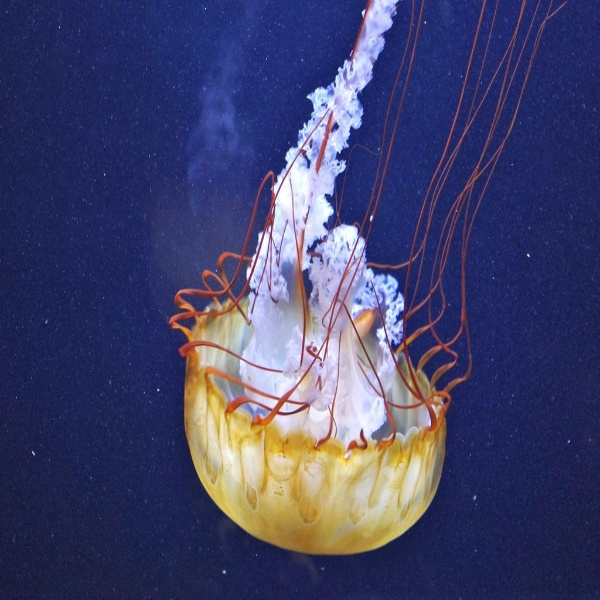Jellyfish: (169, 0, 566, 554)
